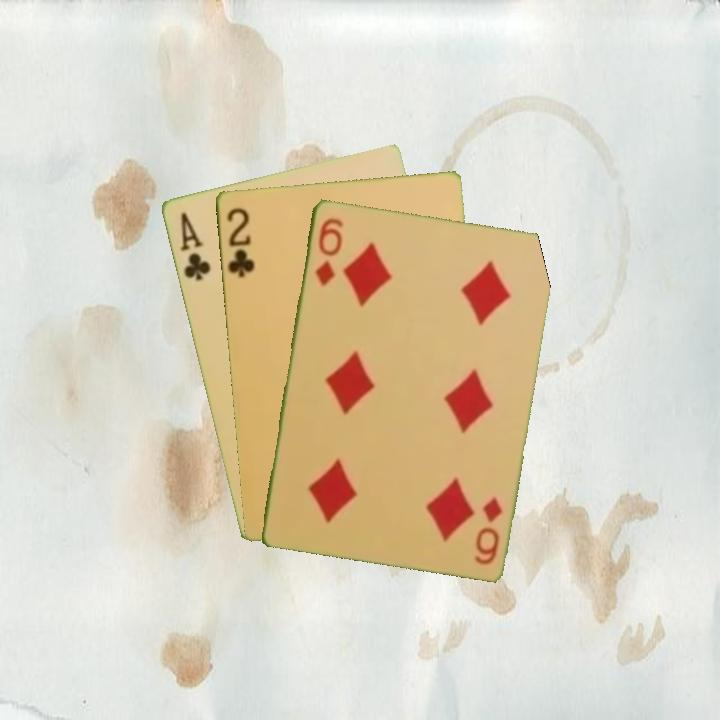2c: (223, 203, 257, 280)
6d: (470, 493, 505, 568), (311, 214, 346, 288)
Ac: (176, 208, 213, 283)
